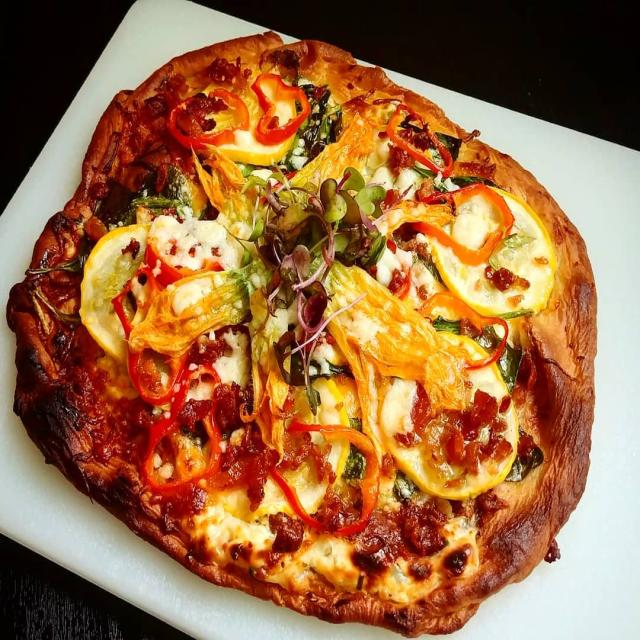pizza: (4, 26, 601, 640)
